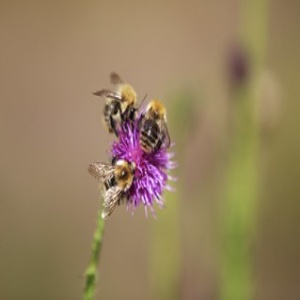bee: (90, 156, 137, 220), (96, 69, 139, 137), (143, 99, 169, 158)
